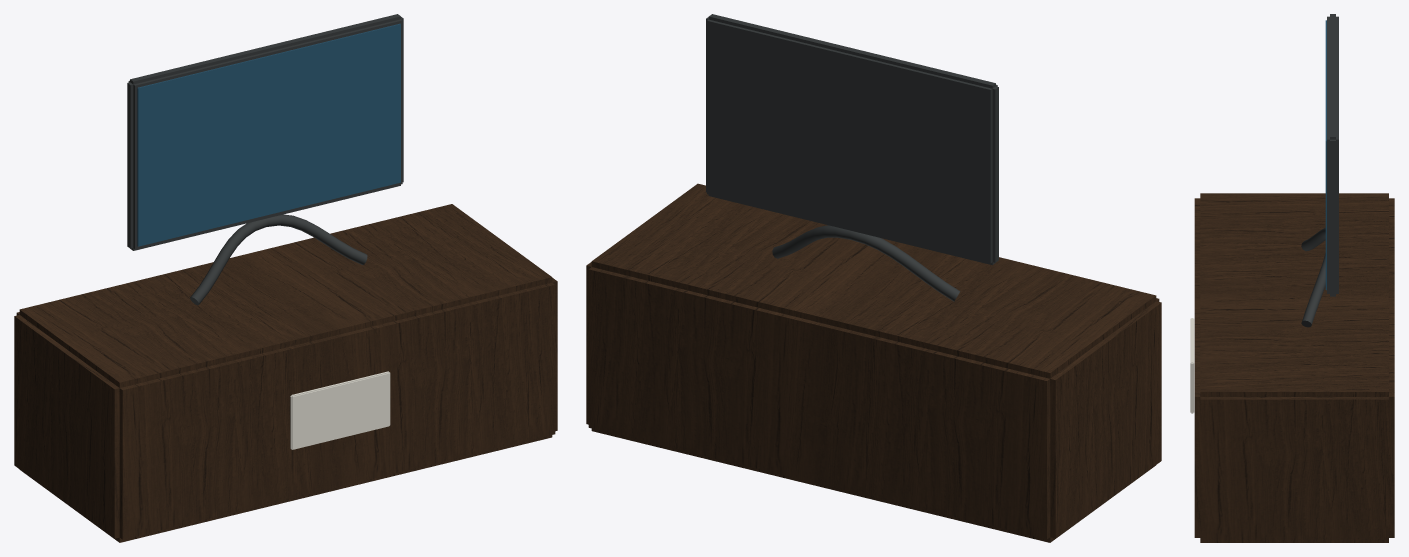
The model's file is compact_tv_v294.glb.
3 renders of one model, left to right at view 1: azimuth 30°, elevation 25°; view 2: azimuth 150°, elevation 25°; view 3: azimuth 270°, elevation 25°, orthographic. The views are drawn at different scales.
Visible parts, largest first — view 1: compact_tv_v294_CC0_Smoked_walnut, compact_tv_v294_FY21_display_screen.001, compact_tv_v294_Anodised_graphite.005, compact_tv_v294_Paper_page_edges; view 2: compact_tv_v294_CC0_Smoked_walnut, compact_tv_v294_Anodised_graphite.005; view 3: compact_tv_v294_CC0_Smoked_walnut, compact_tv_v294_Anodised_graphite.005, compact_tv_v294_FY21_display_screen.001, compact_tv_v294_Paper_page_edges.
Boxes of the visible parts, x1,y1,x2,y2 form: compact_tv_v294_CC0_Smoked_walnut: [14, 204, 557, 542]; compact_tv_v294_FY21_display_screen.001: [137, 23, 400, 246]; compact_tv_v294_Anodised_graphite.005: [127, 14, 403, 305]; compact_tv_v294_Paper_page_edges: [290, 371, 390, 449]; compact_tv_v294_CC0_Smoked_walnut: [586, 183, 1161, 542]; compact_tv_v294_Anodised_graphite.005: [706, 14, 998, 301]; compact_tv_v294_CC0_Smoked_walnut: [1194, 193, 1394, 542]; compact_tv_v294_Anodised_graphite.005: [1301, 14, 1338, 327]; compact_tv_v294_FY21_display_screen.001: [1325, 20, 1326, 290]; compact_tv_v294_Paper_page_edges: [1190, 318, 1194, 413].
Size of the model in its own units: 1.88 by 1.59 by 0.7965.
Materials: 4 (1 with a texture image).
